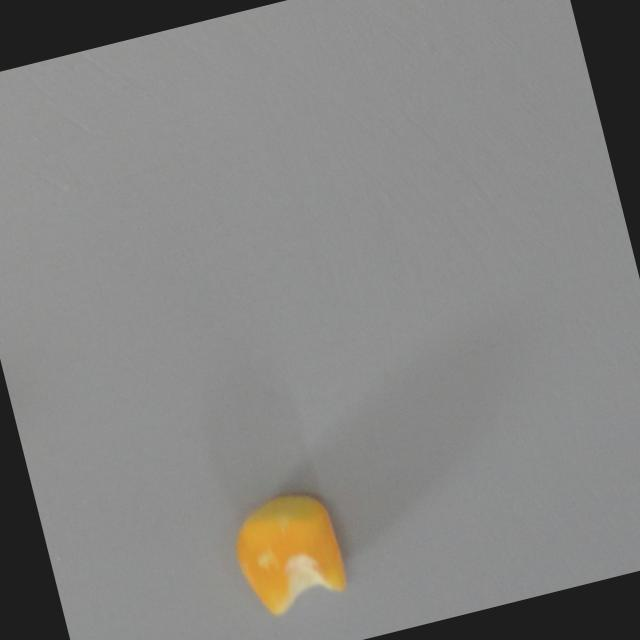no_canjicado: (224, 484, 351, 619)
